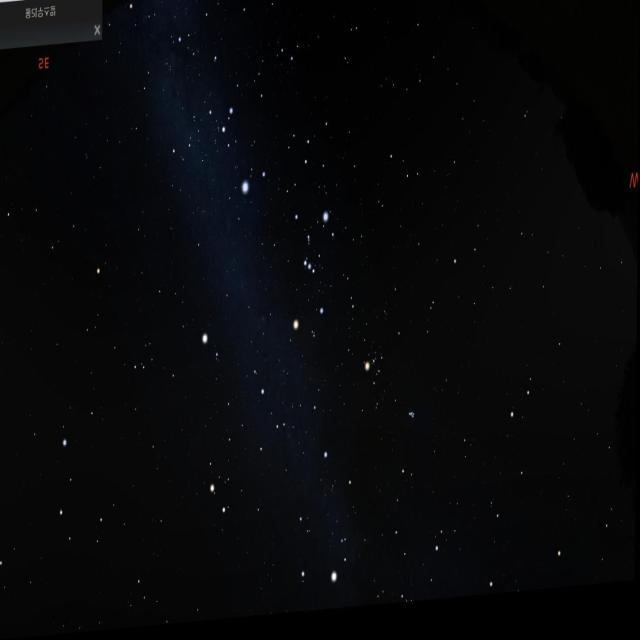canis_major: (214, 98, 270, 208)
canis_minor: (196, 328, 226, 369)
gemini: (208, 379, 290, 530)
orion: (290, 203, 334, 345)
pleiades: (407, 409, 420, 432)
taurus: (356, 330, 428, 446)
